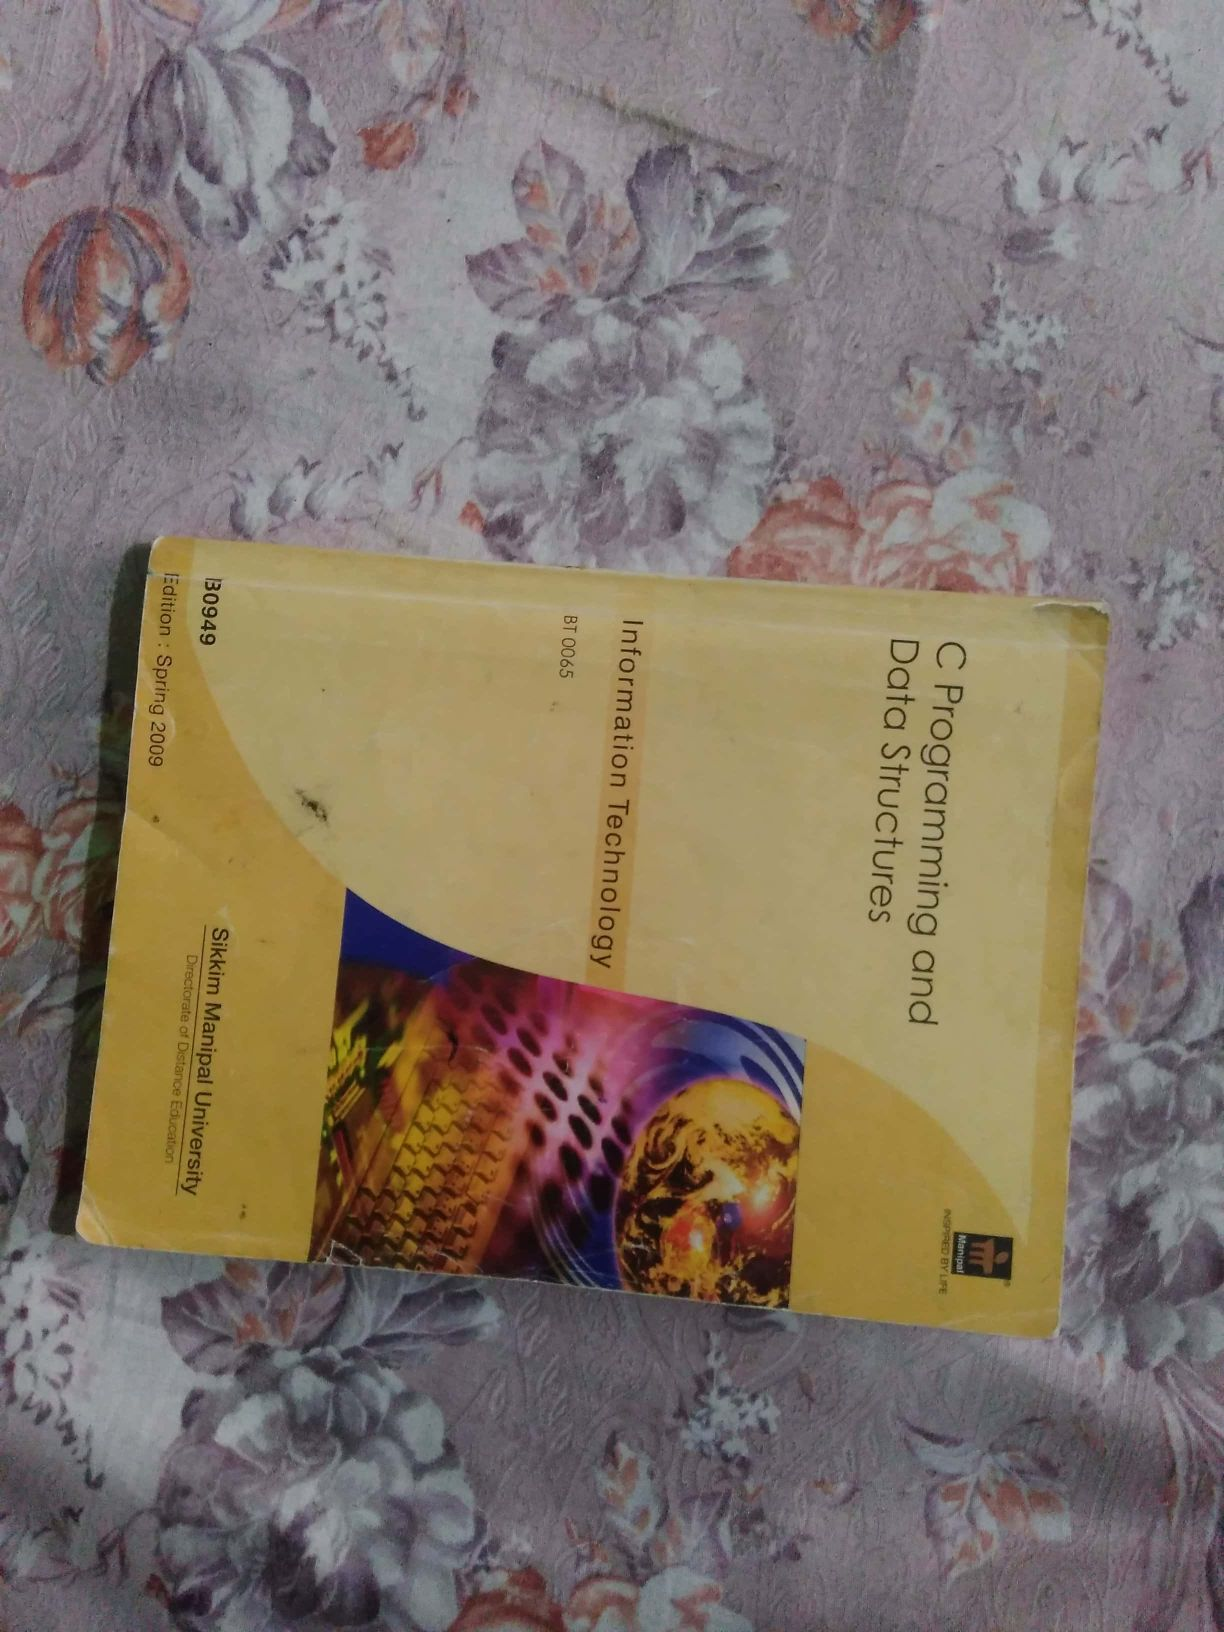clang: (73, 499, 1120, 1361)
